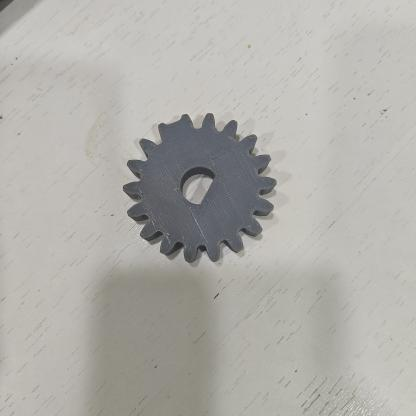defect: (148, 108, 198, 146), (192, 169, 227, 216)
gear: (112, 104, 287, 274)
